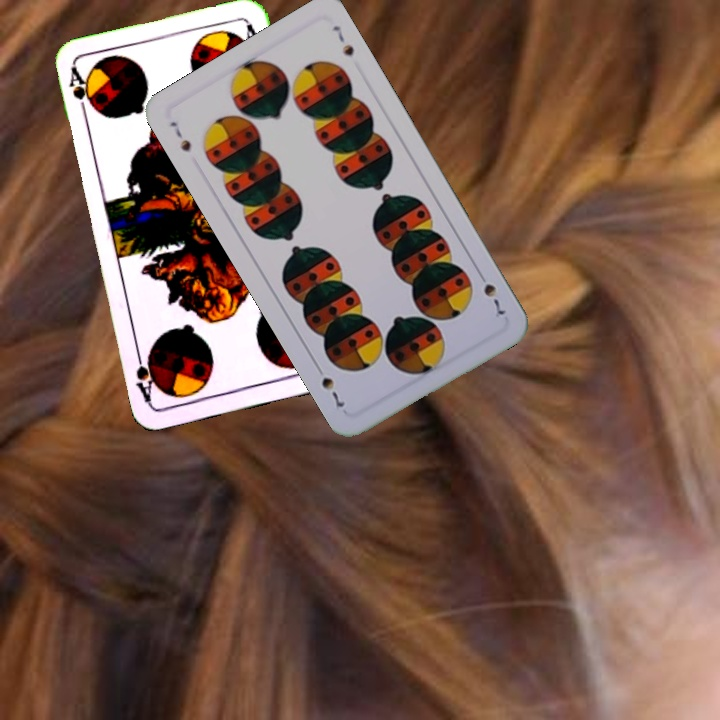S7: (473, 267, 508, 318), (165, 117, 194, 155)
SA: (65, 64, 93, 122)
